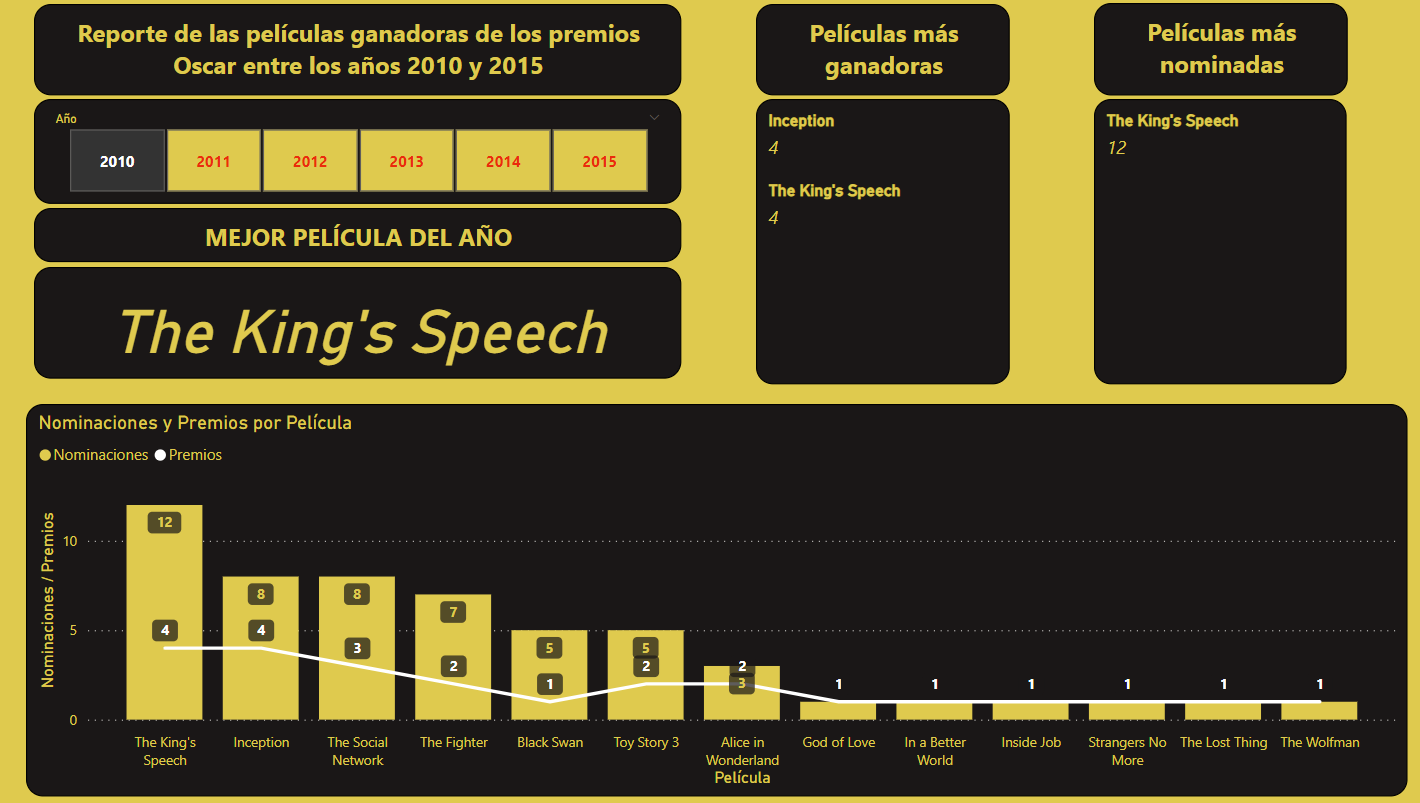

The page's visual inventory and layout, read from the dashboard file:
{"tool":"powerbi","page":{"name":"Página 1","canvas":[1280,720],"ordinal":0},"visuals":[{"type":"slicer","fields":{"Values":["Pelicula.Año"]},"box":[39,93,573.6,92.9],"z":0},{"type":"lineClusteredColumnComboChart","fields":{"Category":["Pelicula.Nombre"],"Y":["Sum(Pelicula.Nominaciones)"],"Y2":["Sum(Pelicula.Premios)"]},"box":[32.1,363.8,1224.6,348.2],"z":1000},{"type":"multiRowCard","fields":{"Values":["Pelicula.Nombre","Sum(Pelicula.Premios)"]},"box":[679.5,92.9,224.8,252.8],"z":2000},{"type":"multiRowCard","fields":{"Values":["Pelicula.Nombre","Sum(Pelicula.Nominaciones)"]},"box":[979.2,92.9,223.8,252.8],"z":3000},{"type":"card","fields":{"Values":["Pelicula.Medida 2"]},"box":[39,242,573.6,98.9],"z":4000},{"type":"textbox","box":[39,9,573.6,80.9],"z":5000},{"type":"textbox","box":[39,190,573.6,48],"z":6000},{"type":"textbox","box":[679.5,8.9,224.8,80.9],"z":7000},{"type":"shape","box":[979.2,91.9,224.8,255.8],"z":8000},{"type":"textbox","box":[979,8.1,224.5,81.8],"z":9000},{"type":"shape","box":[679.5,92.9,224.8,255.8],"z":10000}]}

Visuals, with their boxes in screenshot pixels (x1, y1, x2, y2), scaled from the page's 1280x720 canvas onto the 1420x803 screenshot:
slicer - Pelicula.Año: locate(43, 104, 680, 207)
lineClusteredColumnComboChart - Pelicula.Nombre x Sum(Pelicula.Nominaciones): locate(36, 406, 1394, 794)
multiRowCard - Pelicula.Nombre x Sum(Pelicula.Premios): locate(754, 104, 1003, 386)
multiRowCard - Pelicula.Nombre x Sum(Pelicula.Nominaciones): locate(1086, 104, 1335, 386)
card - Pelicula.Medida 2: locate(43, 270, 680, 380)
textbox: locate(43, 10, 680, 100)
textbox: locate(43, 212, 680, 265)
textbox: locate(754, 10, 1003, 100)
shape: locate(1086, 102, 1336, 388)
textbox: locate(1086, 9, 1335, 100)
shape: locate(754, 104, 1003, 389)
